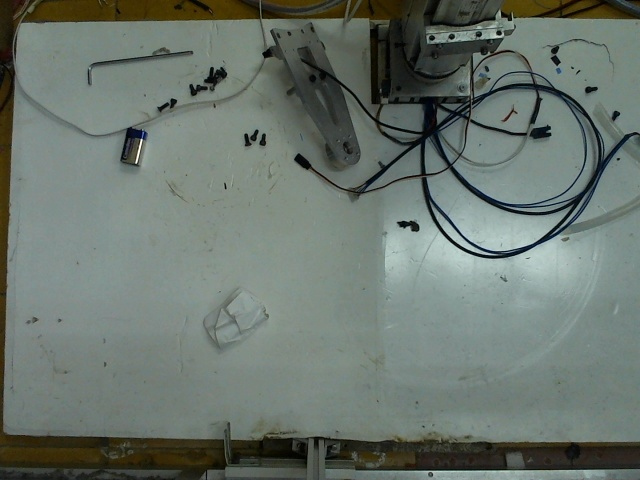battery: (120, 124, 146, 159)
